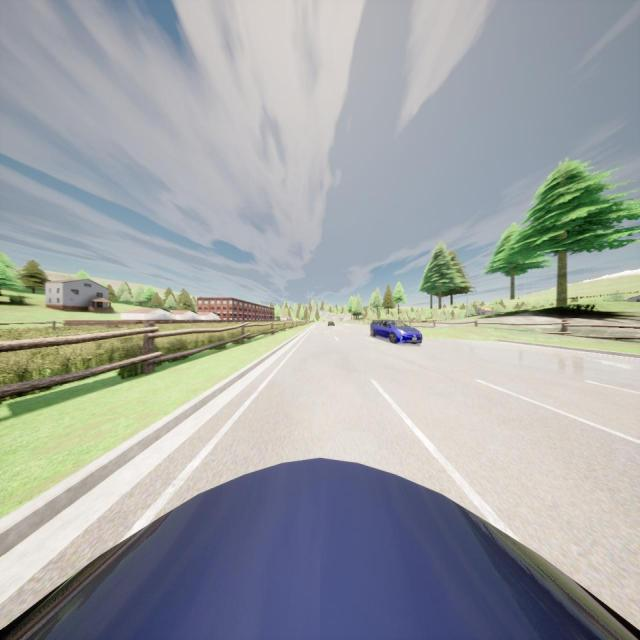Vehicle: (0, 458, 640, 640), (370, 319, 422, 343), (328, 321, 335, 326)
